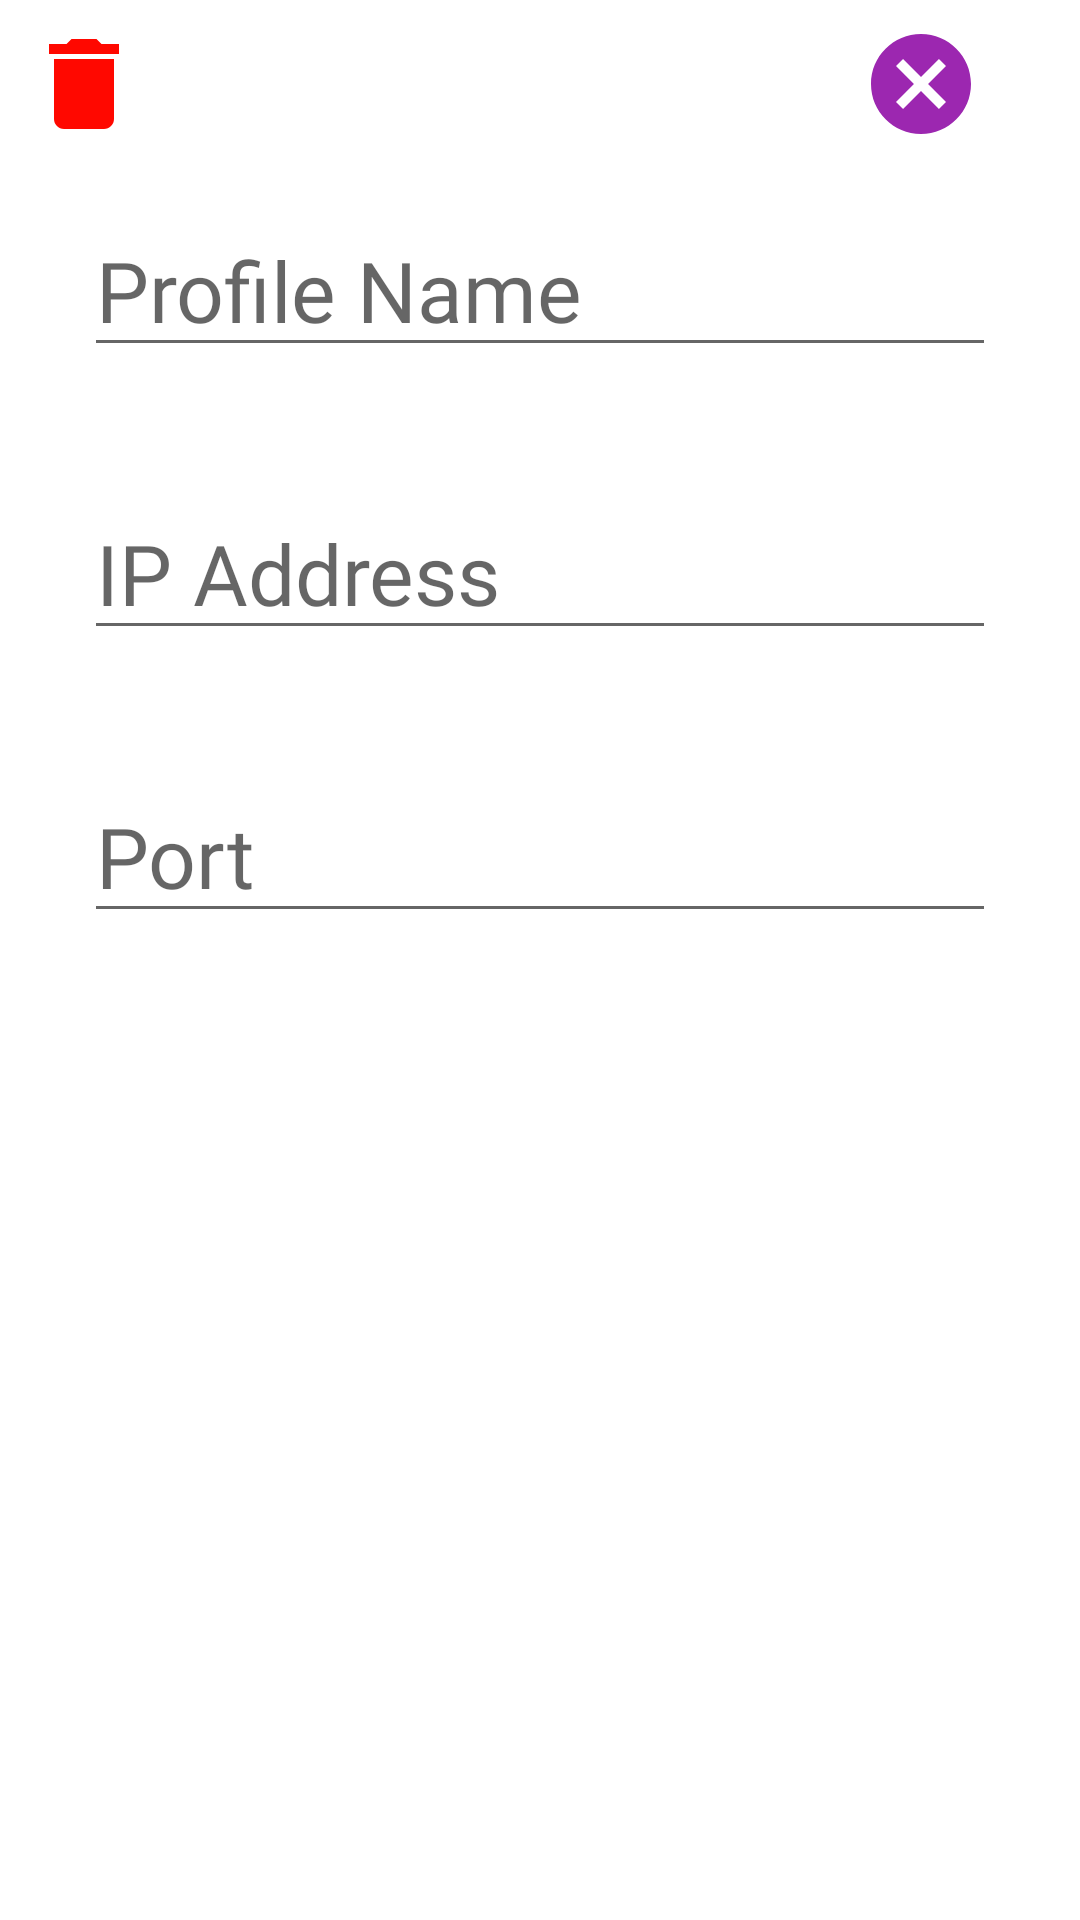

Icons on this 1080*1920 Android screen, each with its box as bbox=[x1, y1, x2, y2]:
cancel: bbox=[871, 34, 971, 134]
delete: bbox=[49, 39, 119, 129]
